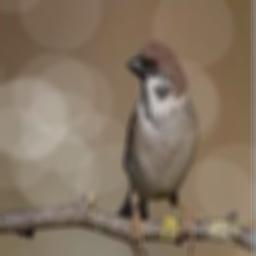Sparrow: (116, 40, 198, 256)
